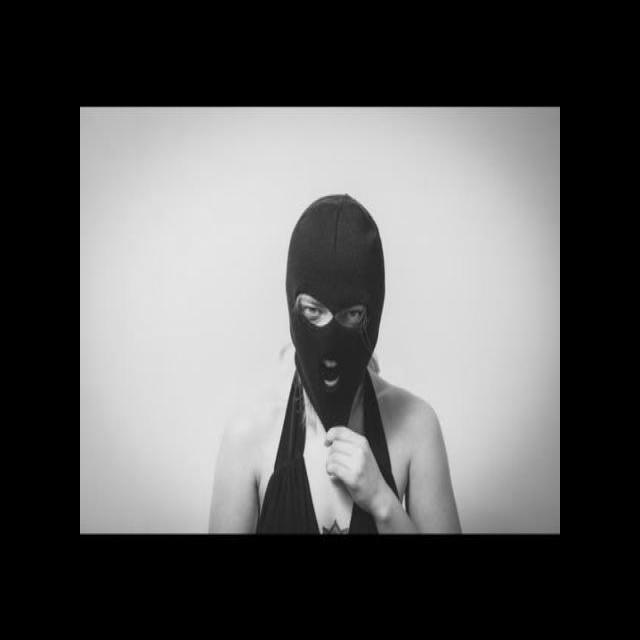6_pasamontana: (286, 193, 386, 420)
